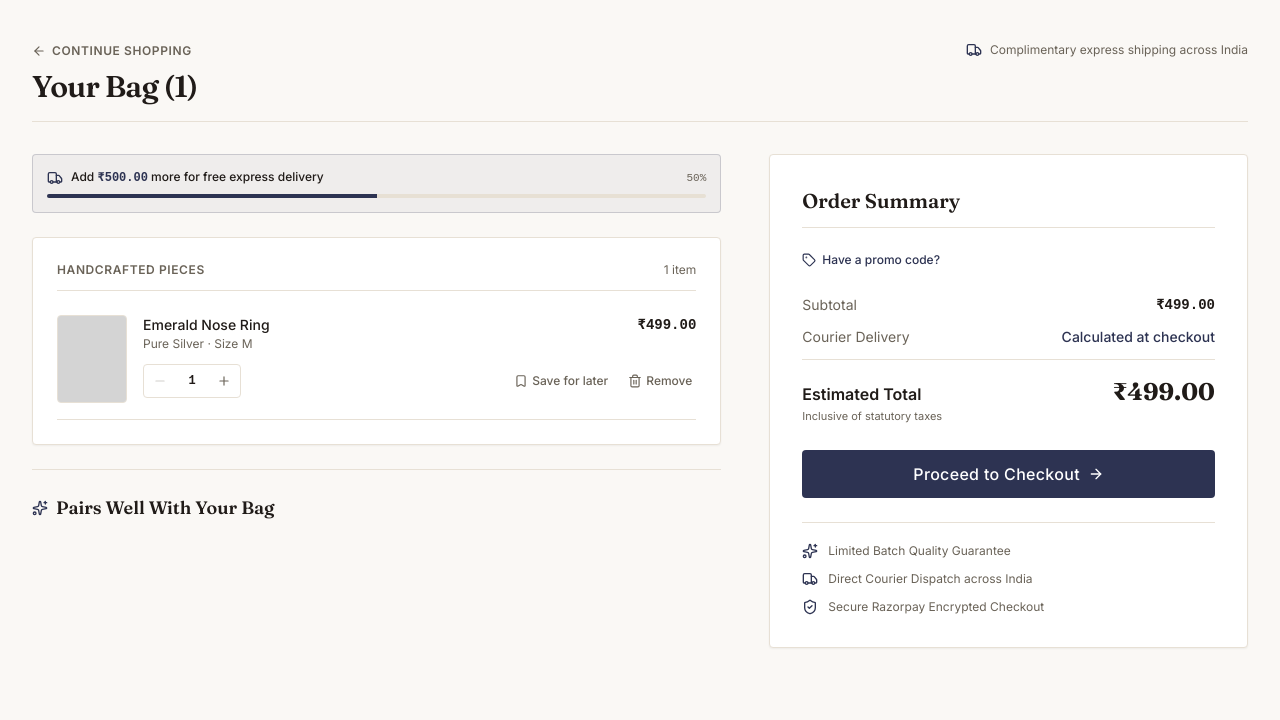
it: CartView Component › toggles promo code input, validates, and applies discount pill
Click "Have a promo code?"
Step 1. Click the button "Have a promo code?" → (871, 260), box [802, 252, 940, 268]
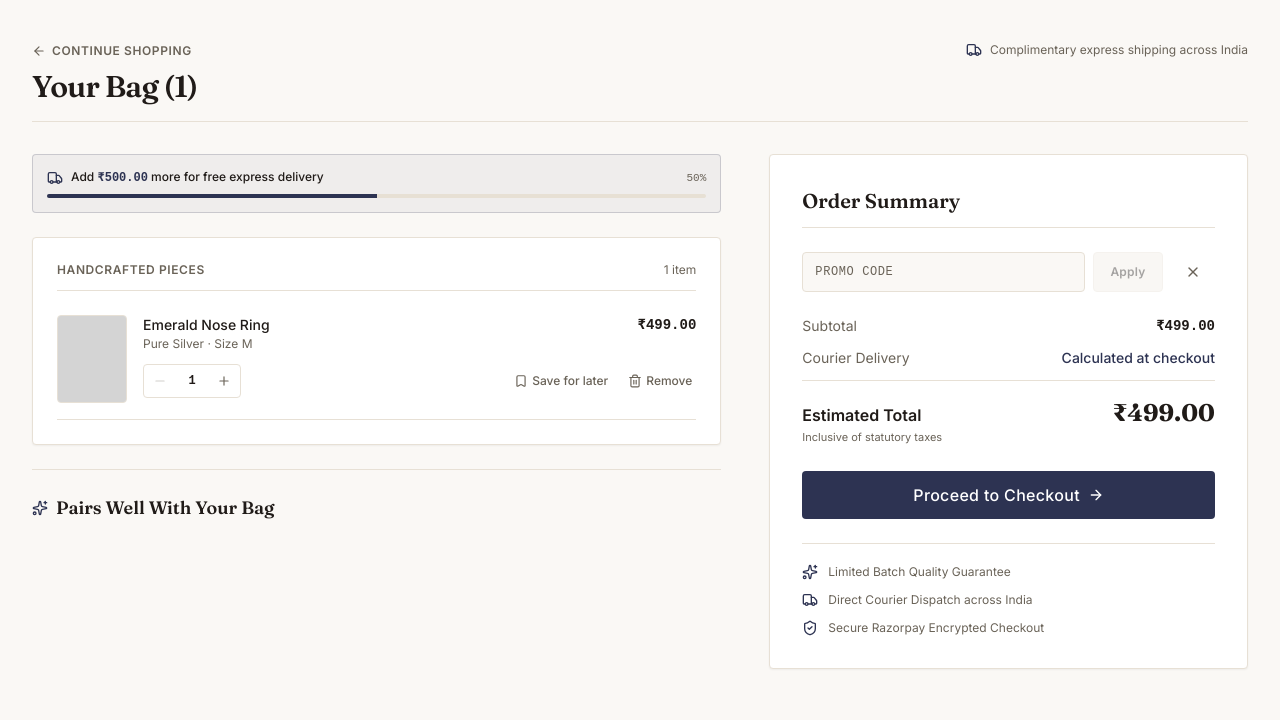
expect the field with placeholder "PROMO CODE" is shown: met
Step 2. Type "SAVE10" into the field with placeholder "PROMO CODE" → (944, 272), box [802, 252, 1085, 292]
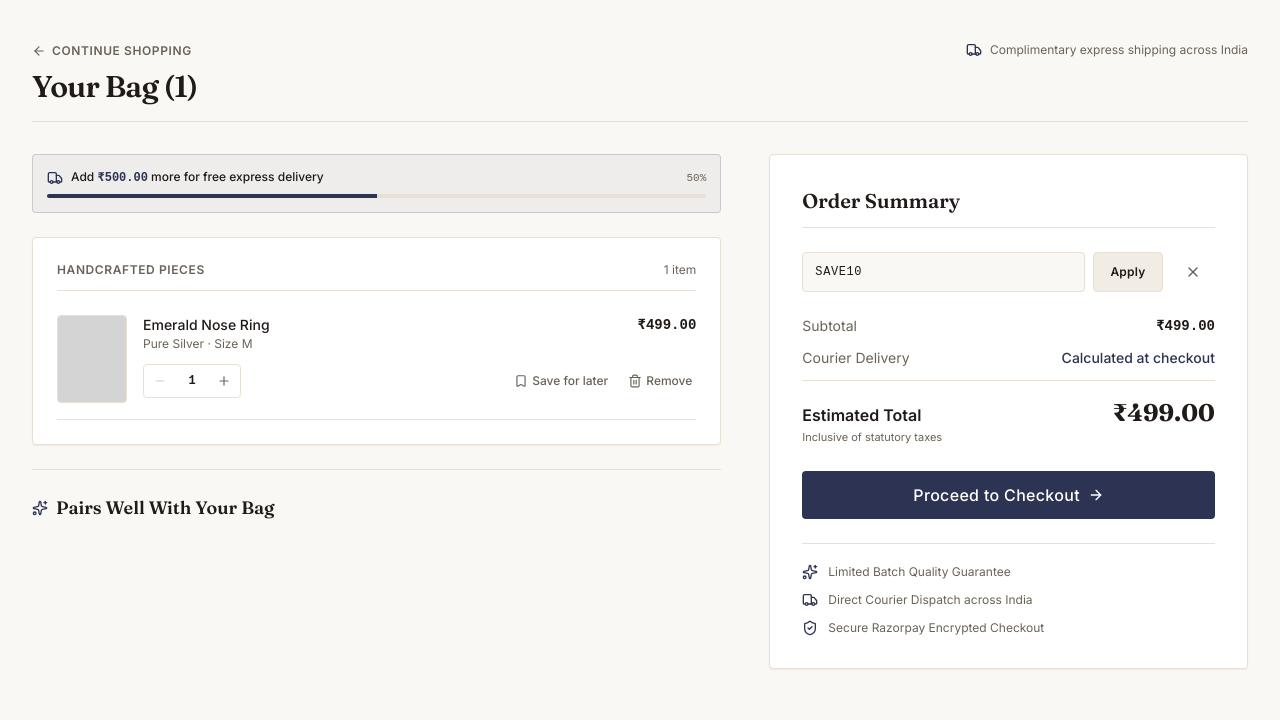
expect the form with placeholder "PROMO CODE" is shown: met
Step 3. Submit the form with placeholder "PROMO CODE", box [802, 252, 1215, 292]
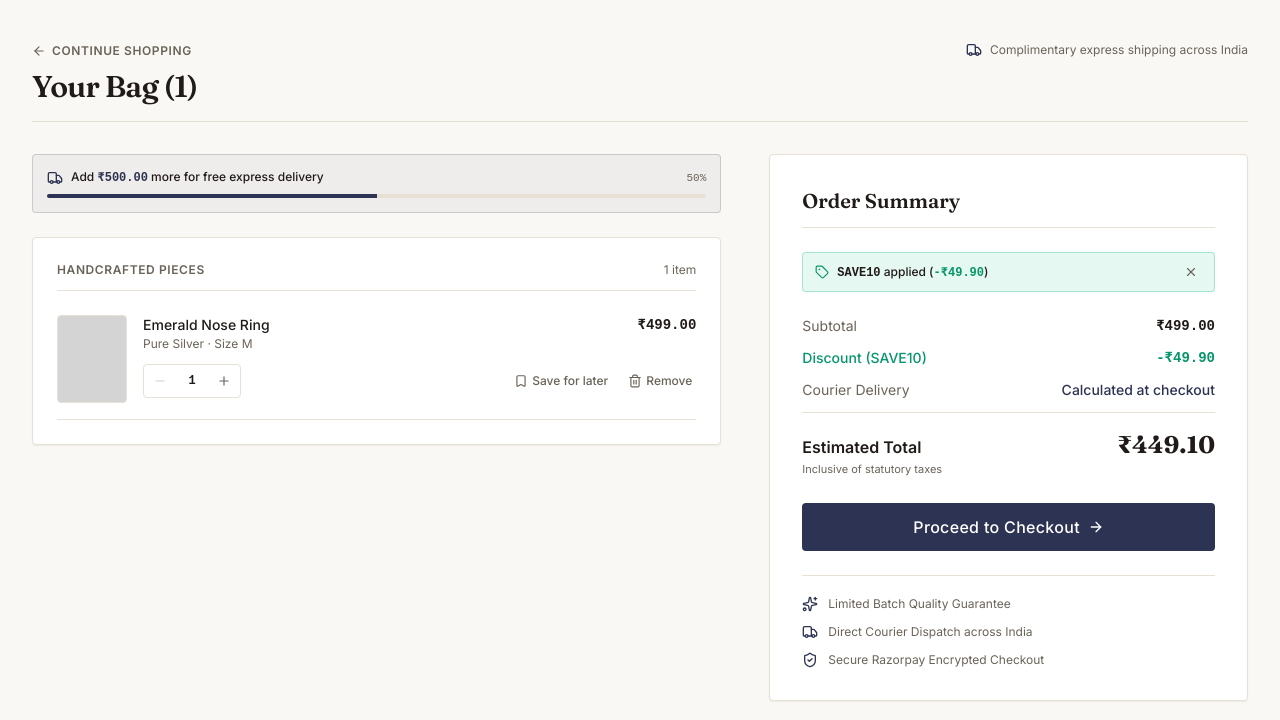
expect the text "SAVE10" is shown: met, box [837, 266, 880, 280]
expect the text "SAVE10 applied (-₹49.90)" is shown: met, box [837, 264, 988, 280]
